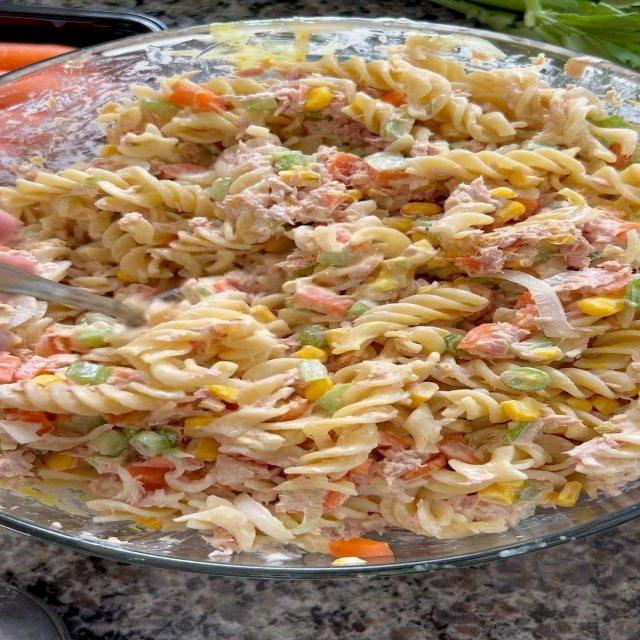pasta: (13, 36, 561, 582)
